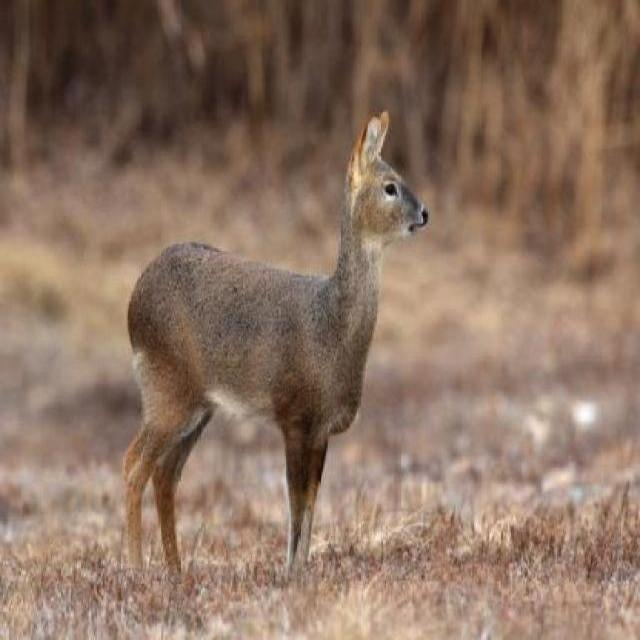deer: (114, 101, 432, 584)
